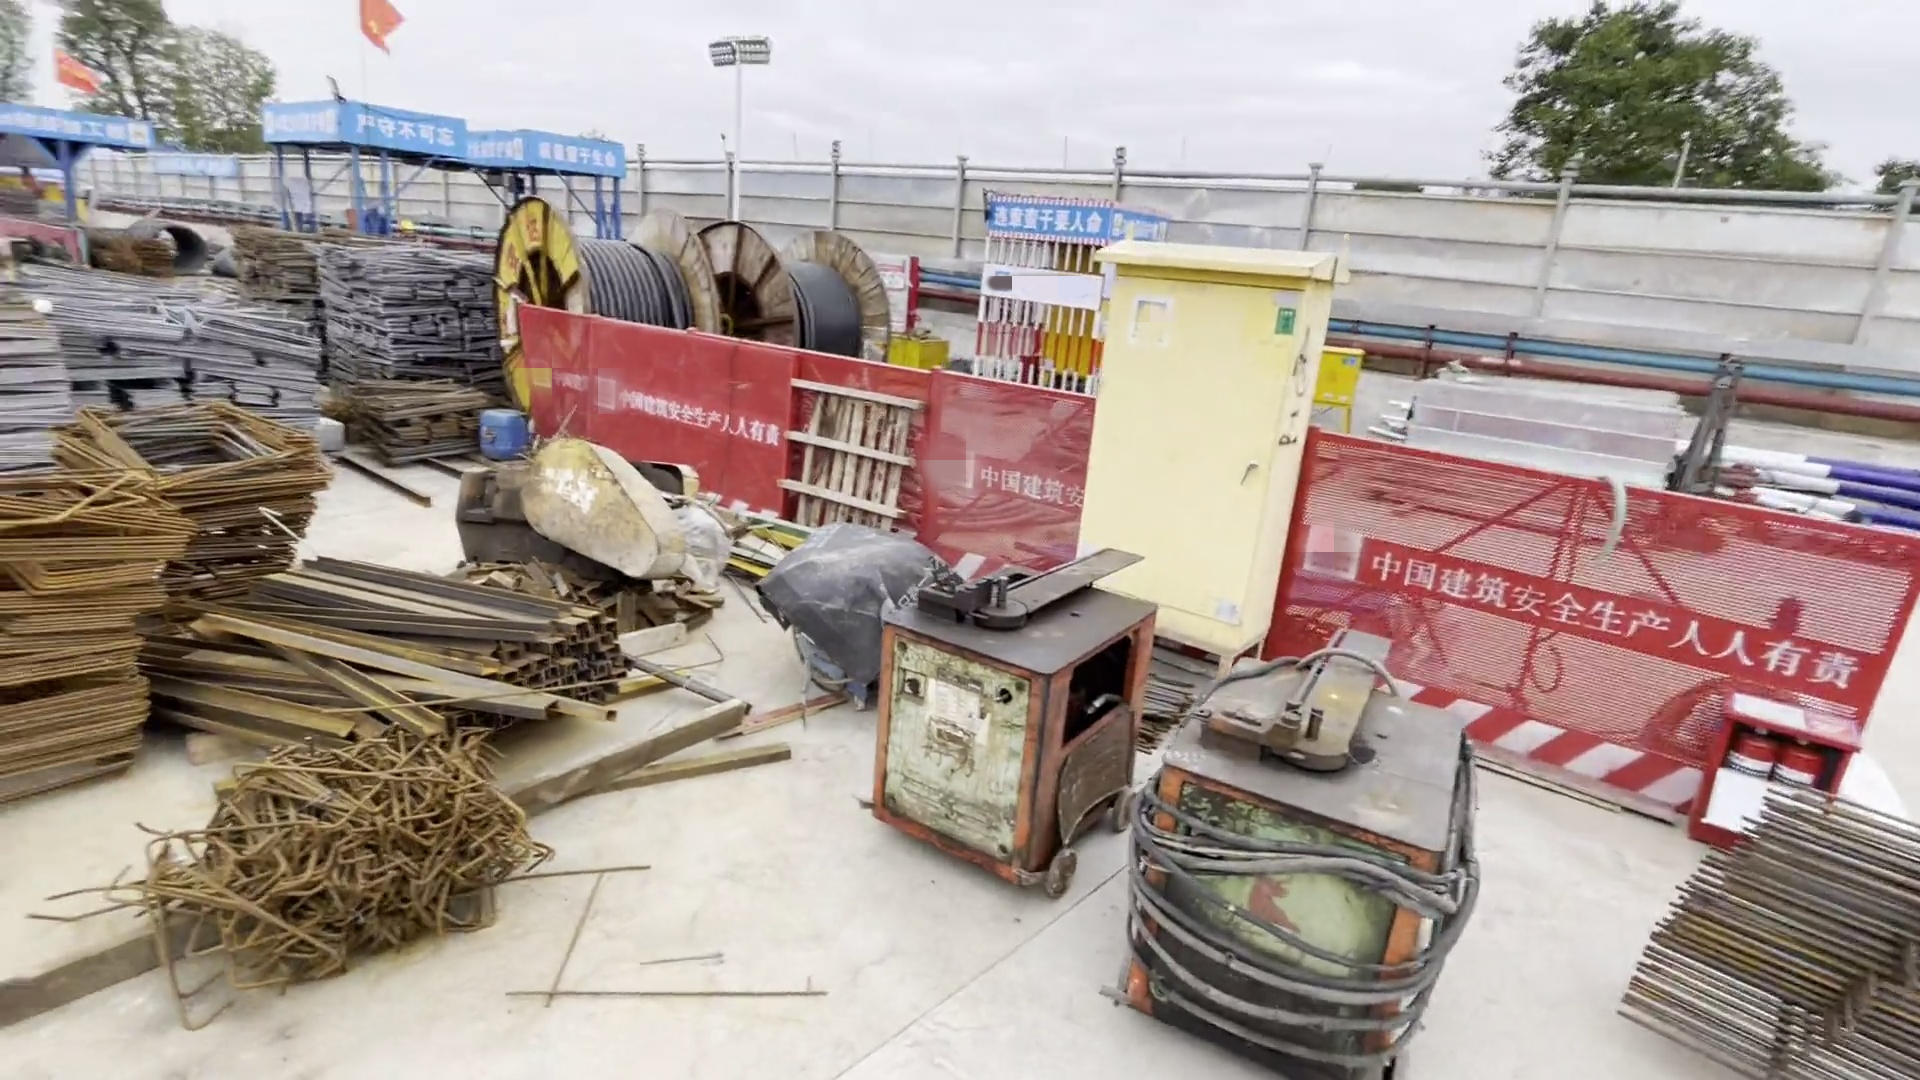ebox: (1065, 232, 1338, 662), (1315, 347, 1361, 425)
fence: (1291, 431, 1892, 869), (512, 303, 1083, 592)
slogan: (989, 204, 1102, 245), (352, 109, 459, 148), (531, 138, 616, 167)
